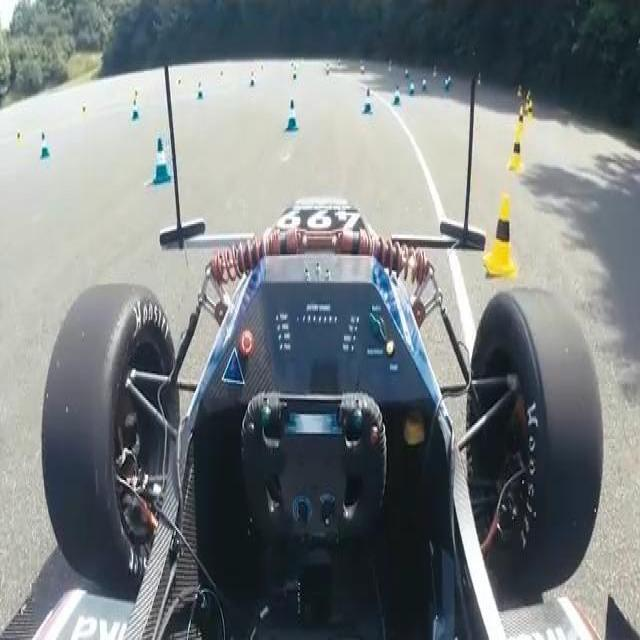blue_cone: (153, 137, 172, 185), (286, 98, 300, 131), (39, 132, 50, 162), (362, 87, 373, 113)
yellow_cone: (484, 192, 519, 279), (508, 133, 525, 173)
